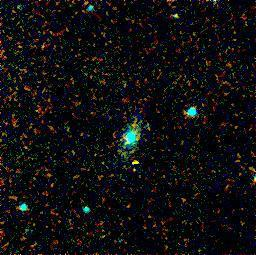star: (117, 148, 147, 178)
